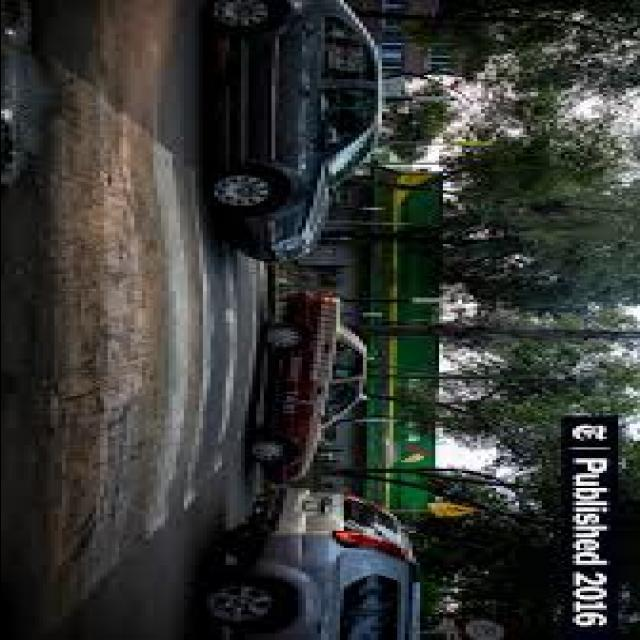speedbreaker: (25, 160, 271, 520)
